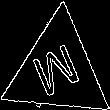M_SE: (29, 37, 86, 103)
